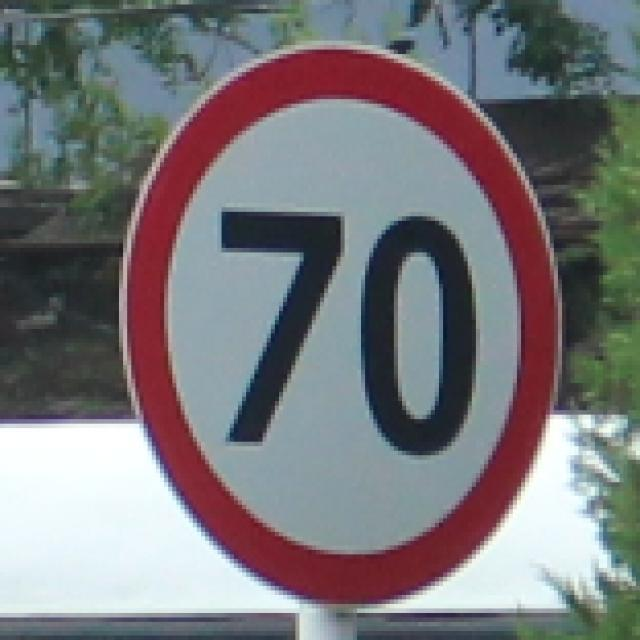speed limit 70: (118, 40, 566, 605)
